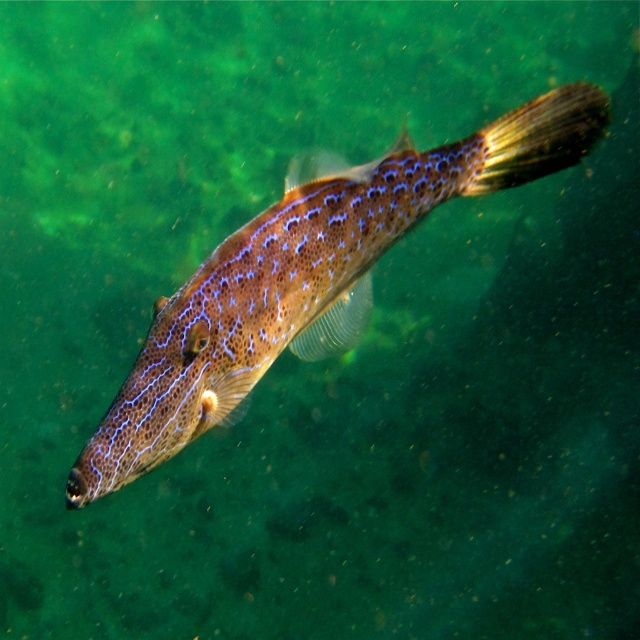Fish: (64, 80, 610, 510)
